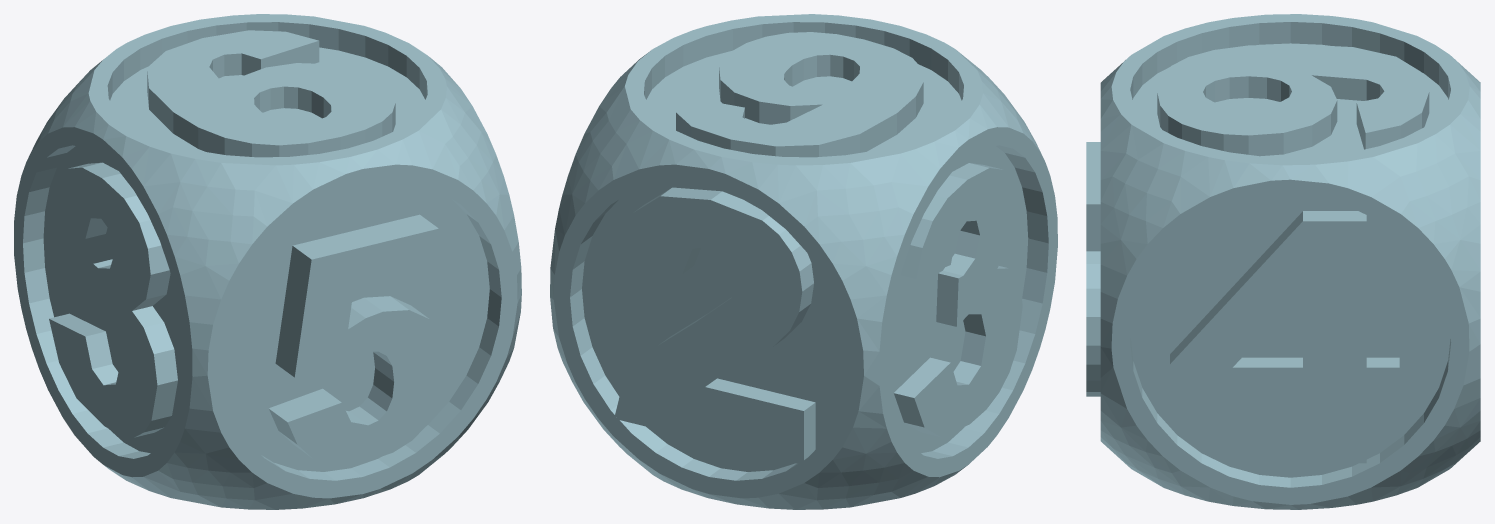
Rendered from sreesdice.glb.
The picture shows the model from 3 angles, left to right: view 1: azimuth 30°, elevation 25°; view 2: azimuth 150°, elevation 25°; view 3: azimuth 270°, elevation 25°; orthographic projection.
Visible parts, largest first — view 1: Mesh_Mesh_head_geo.001_lambert2SG.001; view 2: Mesh_Mesh_head_geo.001_lambert2SG.001; view 3: Mesh_Mesh_head_geo.001_lambert2SG.001.
Boxes of the visible parts, x1=… form: Mesh_Mesh_head_geo.001_lambert2SG.001: x1=14, y1=14, x2=521, y2=509; Mesh_Mesh_head_geo.001_lambert2SG.001: x1=550, y1=14, x2=1057, y2=509; Mesh_Mesh_head_geo.001_lambert2SG.001: x1=1086, y1=14, x2=1480, y2=509.
Size of the model in its own units: 16 by 16 by 16.61.
